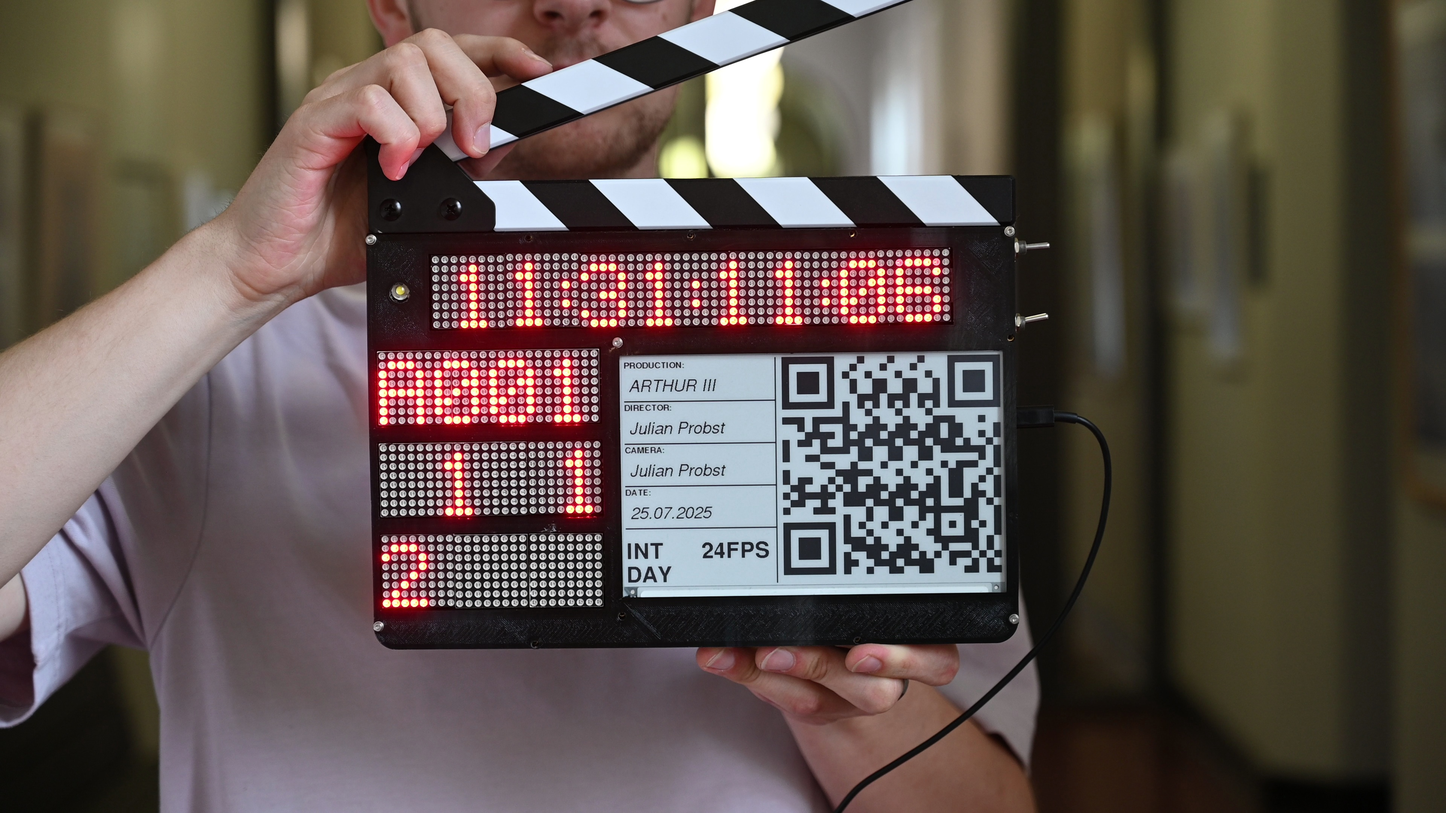ARC-SLATE: (367, 175, 1015, 644)
